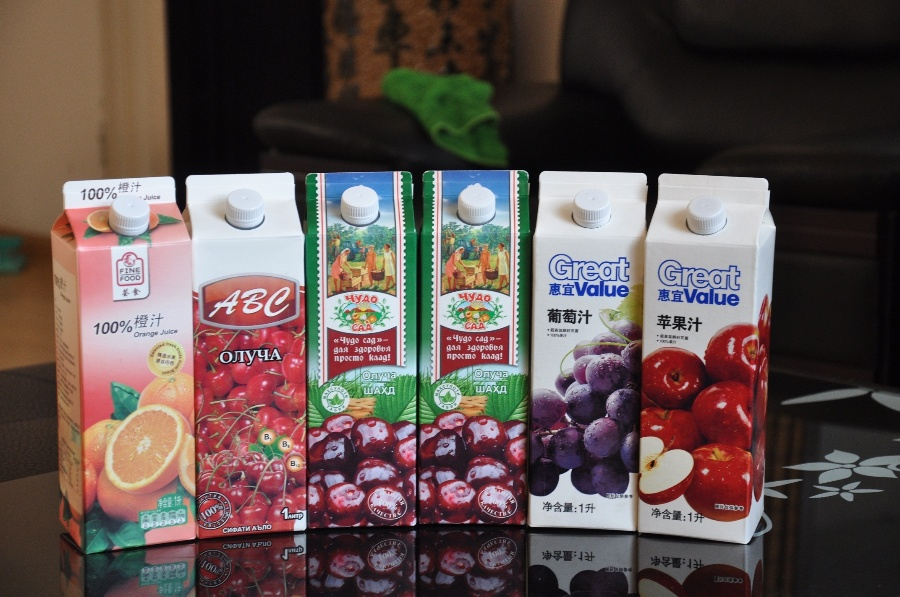juice: (39, 160, 203, 557), (633, 165, 785, 551), (178, 162, 321, 552), (296, 158, 423, 539), (413, 158, 538, 542), (530, 162, 653, 548)
